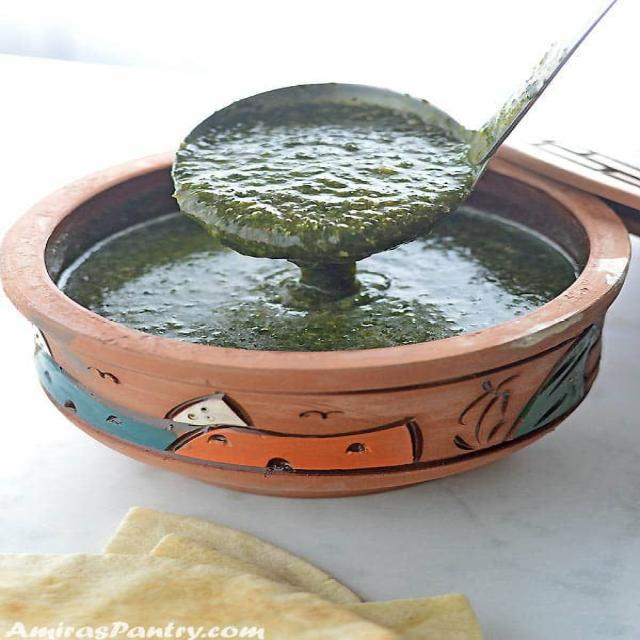Molokhya: (0, 75, 640, 432)
